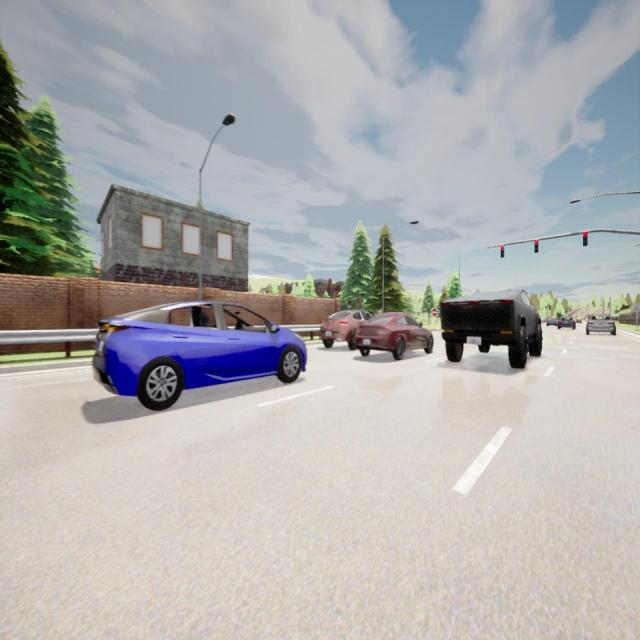Traffic_Signs: (634, 304, 640, 312), (432, 309, 437, 316)
Vehicle: (92, 301, 306, 410), (440, 289, 543, 368), (355, 312, 434, 359), (319, 309, 373, 353), (586, 312, 617, 336), (556, 315, 575, 331), (546, 316, 557, 327), (576, 317, 582, 325)
traffic_light: (584, 231, 588, 246), (501, 245, 504, 257), (535, 240, 538, 252)
